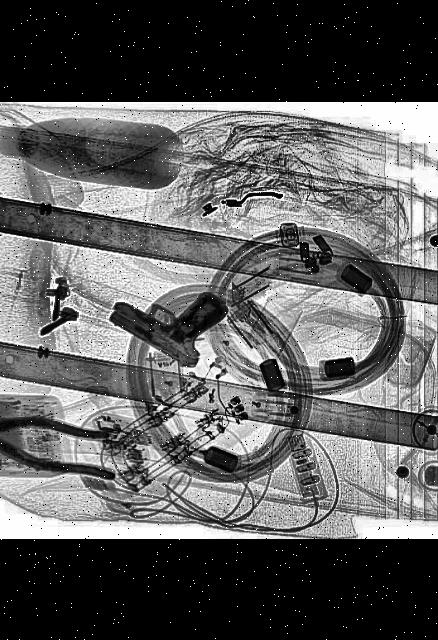Gun: (100, 260, 250, 372)
Pliers: (0, 399, 126, 482)
